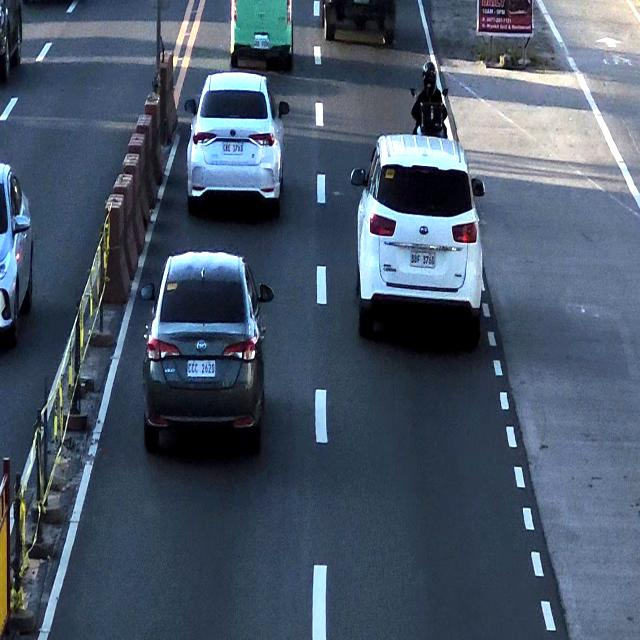Car: (356, 144, 481, 322), (150, 252, 256, 446), (185, 75, 284, 218), (233, 0, 298, 68)
License-Plate: (185, 357, 219, 382), (409, 249, 438, 275), (223, 137, 244, 160), (252, 36, 272, 54)
Motorcycle: (411, 58, 453, 136)
